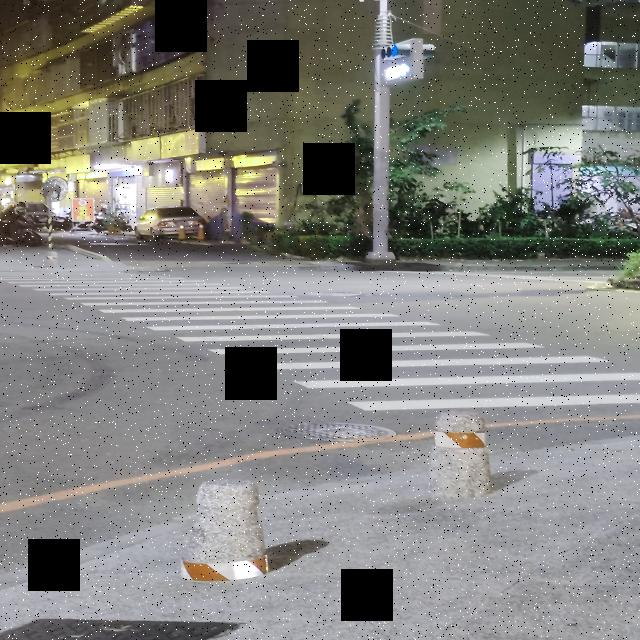zebra crossing: (15, 271, 640, 417)
